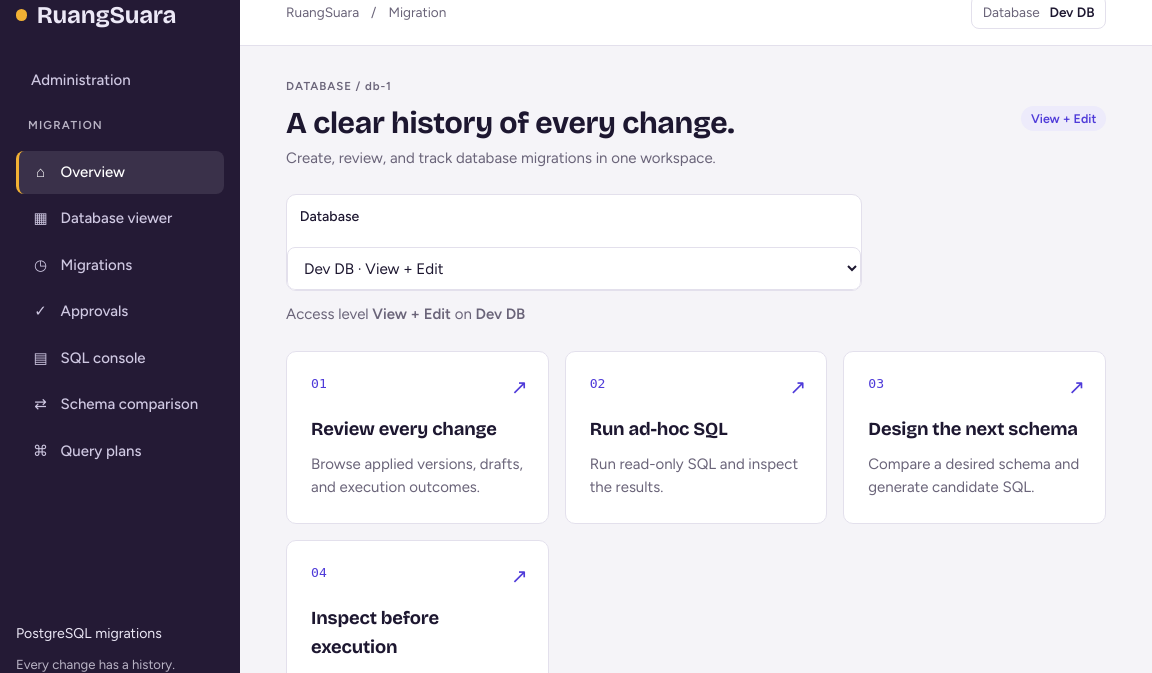
it: Overview navigation › switches workspace views through feature cards
The width and height of the screenshot is (1152, 673).
Click the link "Run ad-hoc SQL" at (696, 437), box [565,350,827,524]
(page scrolled)
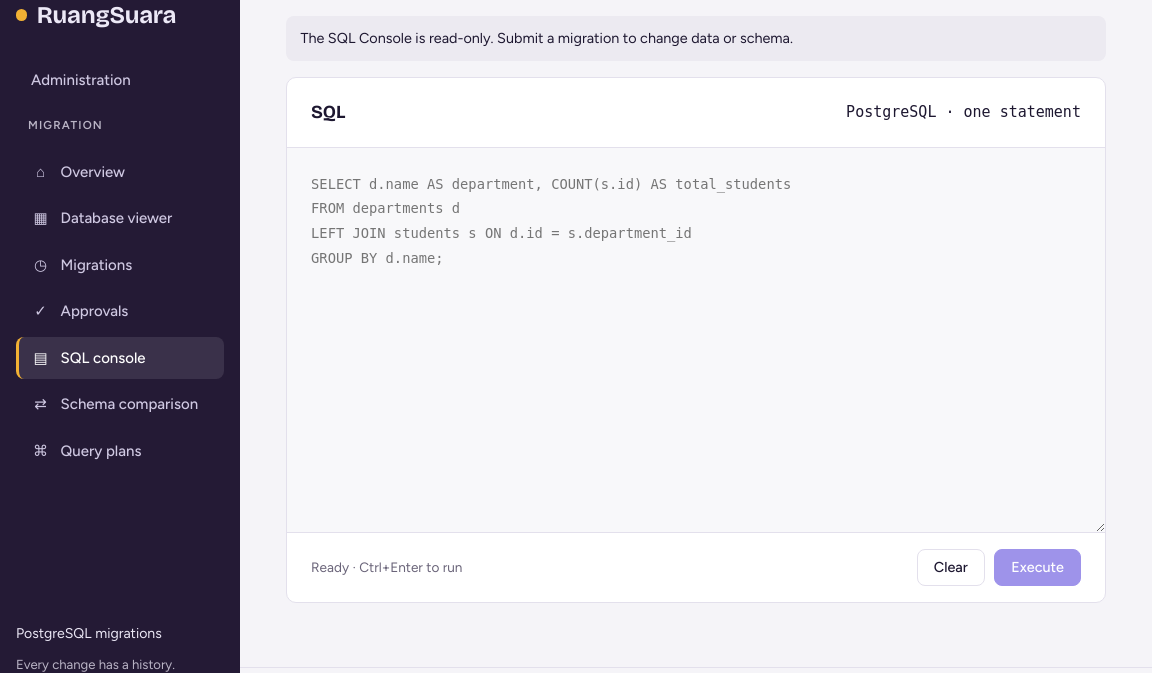
Expected: the text box labelled "SQL statement" is shown, [287,148,1105,532]
